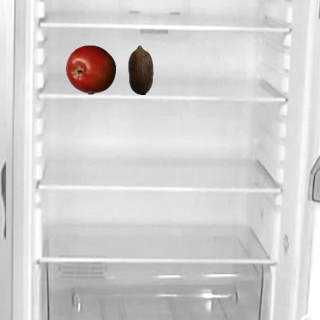Apple Braeburn: (65, 44, 115, 94)
Nut Pecan: (115, 44, 165, 94)
